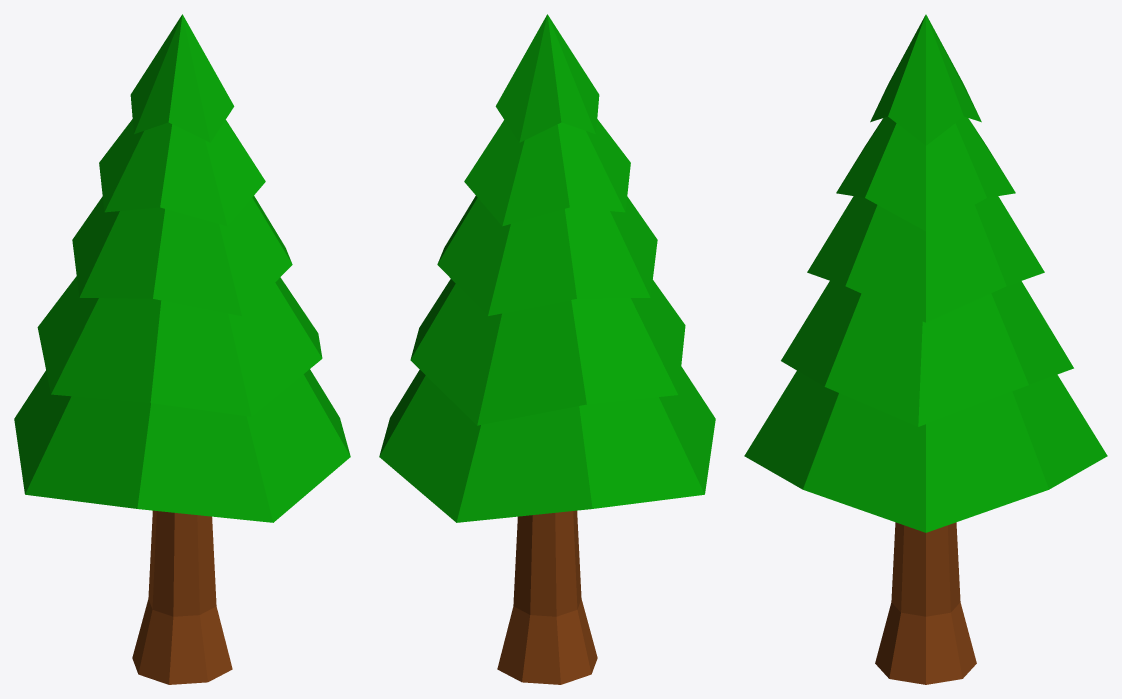
File: spruce-tree-2.glb
The picture shows the model from 3 angles, left to right: view 1: azimuth 30°, elevation 25°; view 2: azimuth 150°, elevation 25°; view 3: azimuth 270°, elevation 25°; orthographic projection.
Parts seen in each view (by area): view 1: spruce-tree-2; view 2: spruce-tree-2; view 3: spruce-tree-2.
Part boxes in pixels (x1,y1,x2,y2): spruce-tree-2: [14, 14, 350, 684]; spruce-tree-2: [379, 14, 715, 684]; spruce-tree-2: [744, 14, 1107, 684].
Size of the model in its own units: 3.05 by 6.01 by 3.05.
